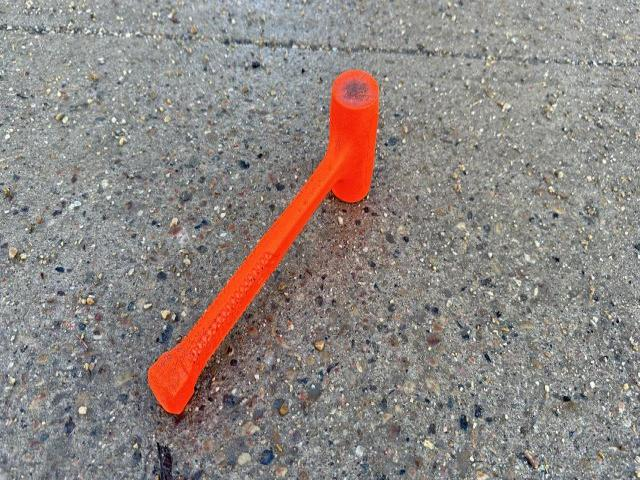hammer: (146, 68, 378, 415)
